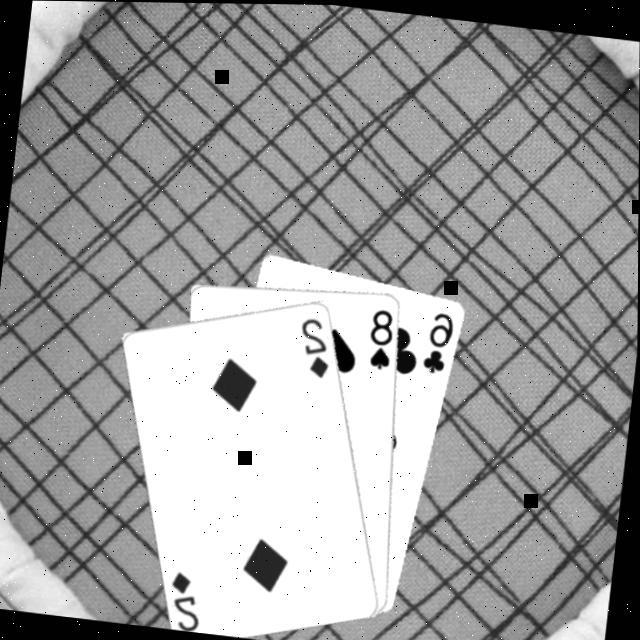2D: (296, 310, 338, 379), (167, 565, 210, 632)
6C: (420, 306, 460, 374)
8S: (366, 303, 401, 372)
